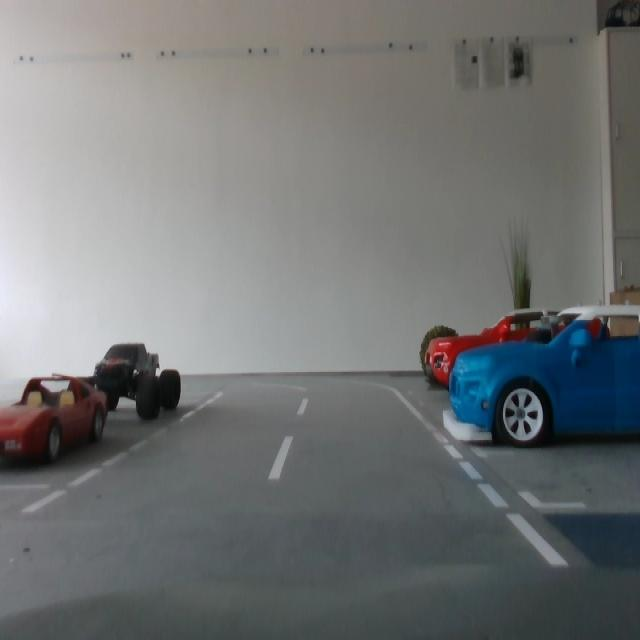car: (450, 306, 640, 448), (424, 308, 620, 390), (1, 373, 109, 465), (93, 342, 182, 420)
potted plant: (499, 214, 534, 364), (419, 323, 461, 378)
